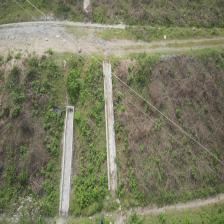slope drain: (102, 59, 118, 198), (59, 105, 75, 218)
